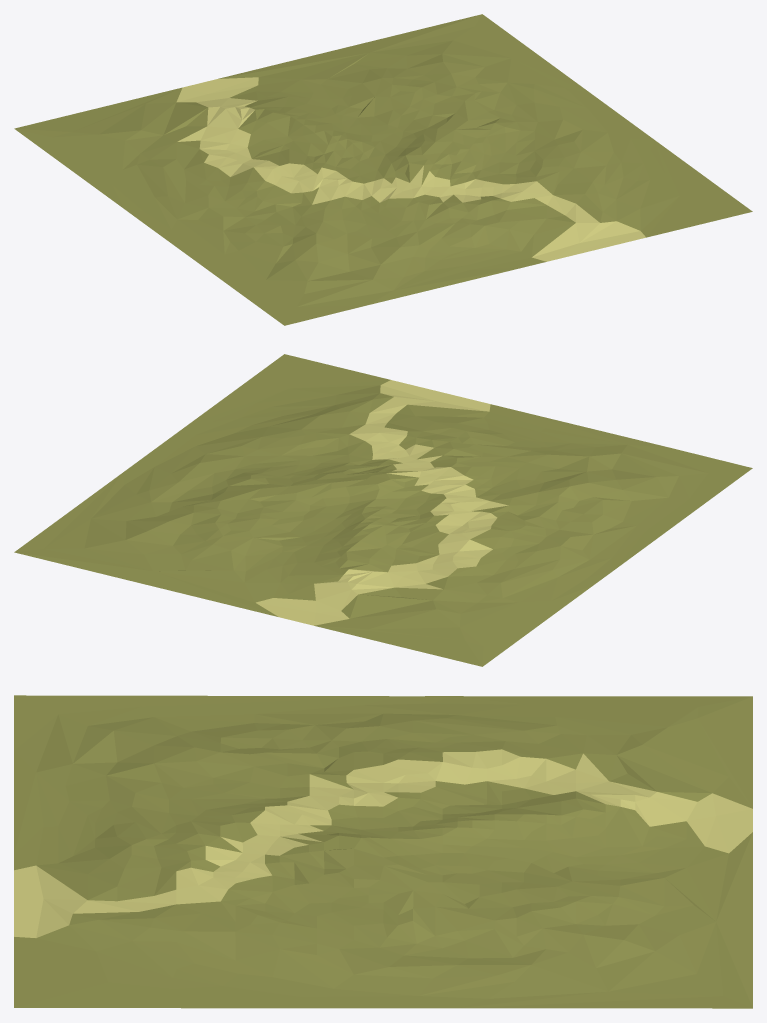
Rendered from Terrain.fbx.
3 views of the same model, one above another, from view 1: azimuth 30°, elevation 25°; view 2: azimuth 150°, elevation 25°; view 3: azimuth 270°, elevation 25° (orthographic). The views are drawn at different scales.
Visible parts, largest first — view 1: Landscape; view 2: Landscape; view 3: Landscape.
Boxes of the visible parts, left/top/right/bottom form: Landscape: left=14, top=14, right=752, bottom=325; Landscape: left=14, top=354, right=752, bottom=666; Landscape: left=14, top=695, right=752, bottom=1008.
Bounding box in the file's own units: 1500 × 53.46 × 1500.
Materials: 1 (1 with a texture image).
